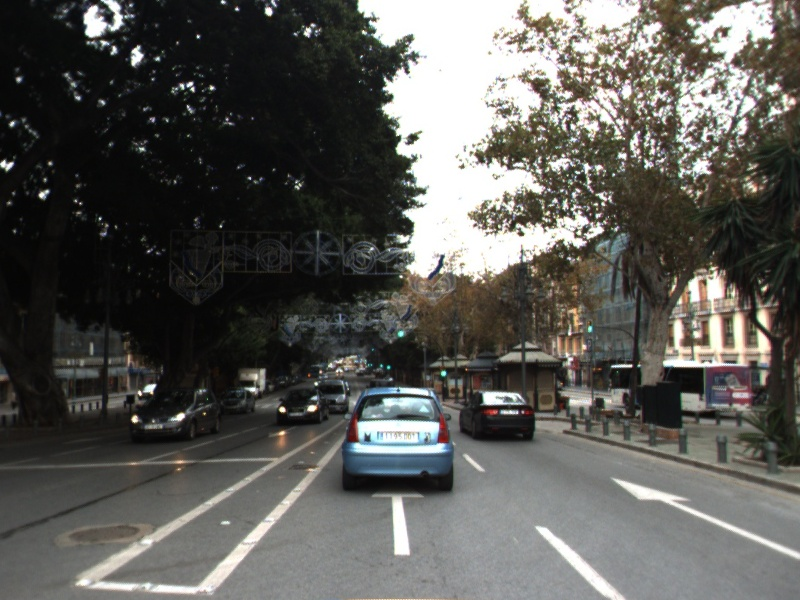STRAIGHT: (608, 475, 800, 560), (369, 487, 427, 556)
